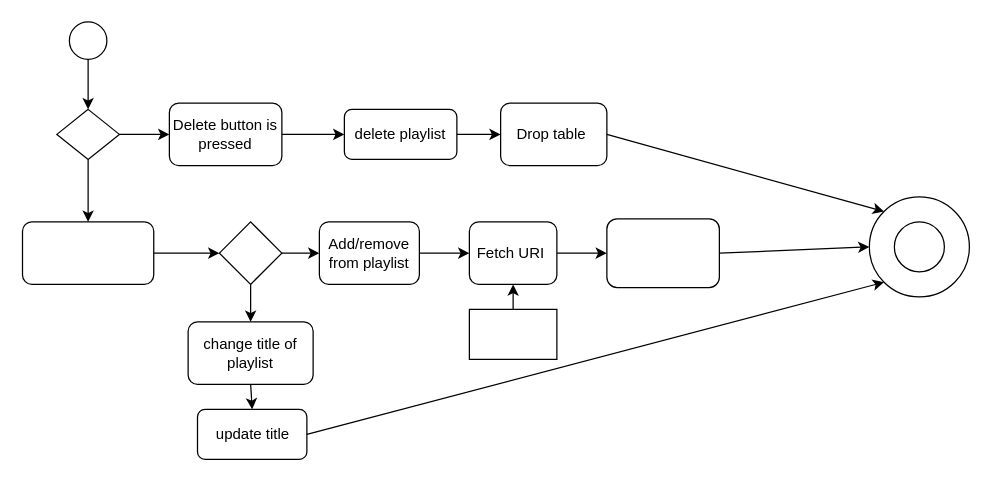
Image size: 991x481. Some labels were removed from this diagram. Each missing label, with the box of its shape:
Database: (468, 308, 557, 359)
Edit playlist button is pressed: (21, 221, 154, 284)
Insert/delete using URI: (606, 218, 719, 288)
